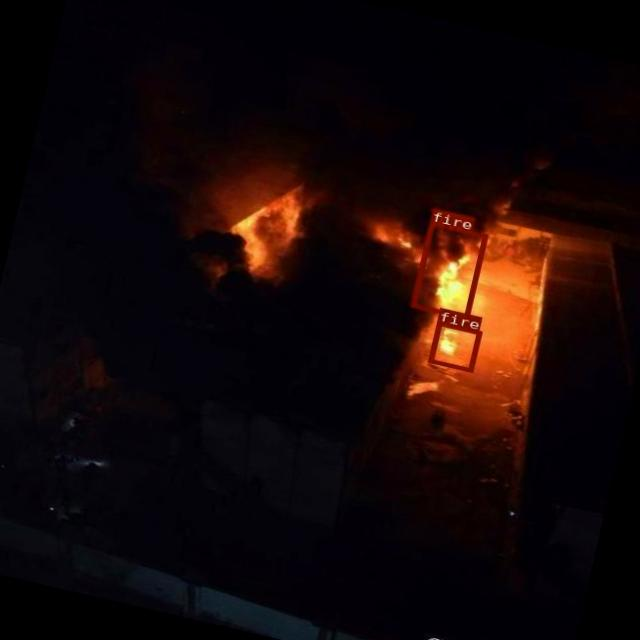fire: (410, 220, 486, 318), (426, 319, 481, 372)
